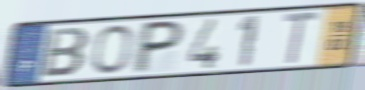1: (235, 13, 261, 70)
4: (185, 17, 220, 71)
B: (39, 27, 91, 79)
O: (90, 24, 135, 76)
P: (129, 19, 188, 76)
T: (281, 9, 323, 68)
